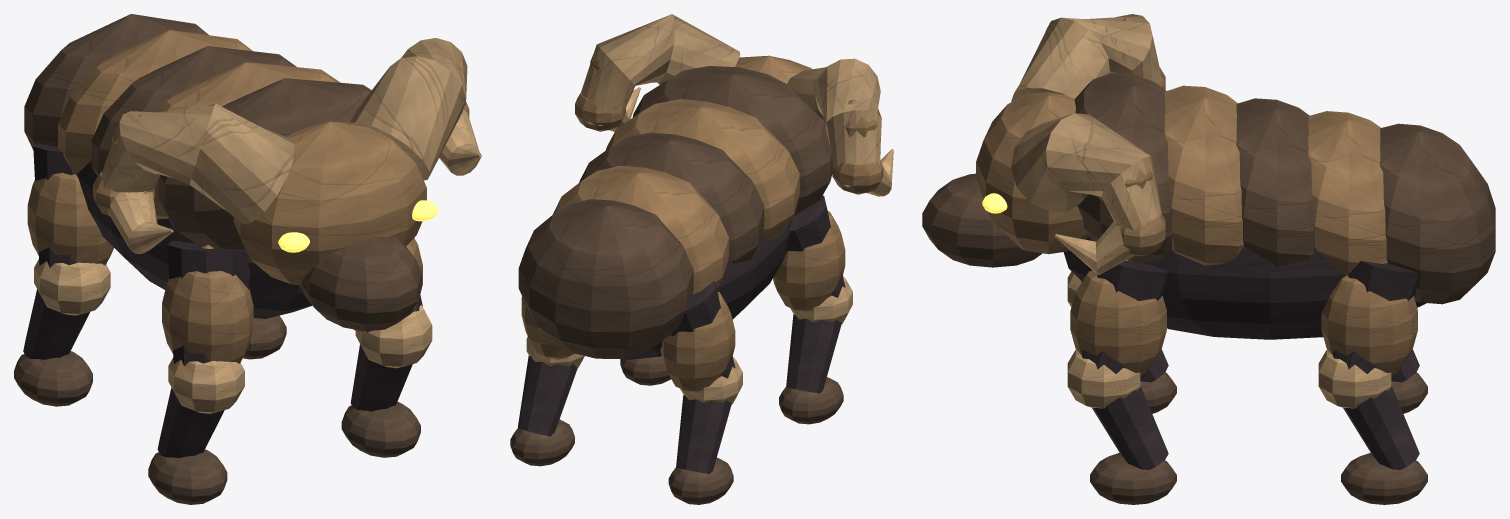
Rendered from quarry_ram.glb.
The picture shows the model from 3 angles, left to right: view 1: azimuth 30°, elevation 25°; view 2: azimuth 150°, elevation 25°; view 3: azimuth 270°, elevation 25°; orthographic projection. The views are drawn at different scales.
Parts seen in each view (by area): view 1: HeadPivotPlates, WithersPlates, Hip_L1Plates, Hip_L0Plates, Hip_R1Plates, Hip_R0Plates; view 2: WithersPlates, HeadPivotPlates, Hip_L1Plates, Hip_L0Plates, Hip_R0Plates, Hip_R1Plates; view 3: WithersPlates, HeadPivotPlates, Hip_R1Plates, Hip_R0Plates, Hip_L1Plates, Hip_L0Plates.
Boxes of the visible parts, bbox=[...] form: HeadPivotPlates: bbox=[93, 38, 481, 331]; WithersPlates: bbox=[24, 14, 371, 318]; Hip_L1Plates: bbox=[148, 241, 253, 504]; Hip_L0Plates: bbox=[14, 143, 113, 406]; Hip_R1Plates: bbox=[341, 238, 432, 457]; Hip_R0Plates: bbox=[243, 315, 286, 359]; WithersPlates: bbox=[518, 66, 832, 359]; HeadPivotPlates: bbox=[575, 14, 893, 196]; Hip_L1Plates: bbox=[773, 195, 852, 424]; Hip_L0Plates: bbox=[660, 281, 742, 504]; Hip_R0Plates: bbox=[510, 296, 584, 466]; Hip_R1Plates: bbox=[620, 356, 670, 385]; WithersPlates: bbox=[1063, 73, 1495, 339]; HeadPivotPlates: bbox=[922, 14, 1165, 275]; Hip_R1Plates: bbox=[1067, 260, 1176, 504]; Hip_R0Plates: bbox=[1318, 260, 1427, 504]; Hip_L1Plates: bbox=[1067, 271, 1176, 413]; Hip_L0Plates: bbox=[1391, 349, 1427, 413].
Bounding box in the file's own units: 1.23 × 1.32 × 1.76.
Materials: 2 (1 with a texture image).
